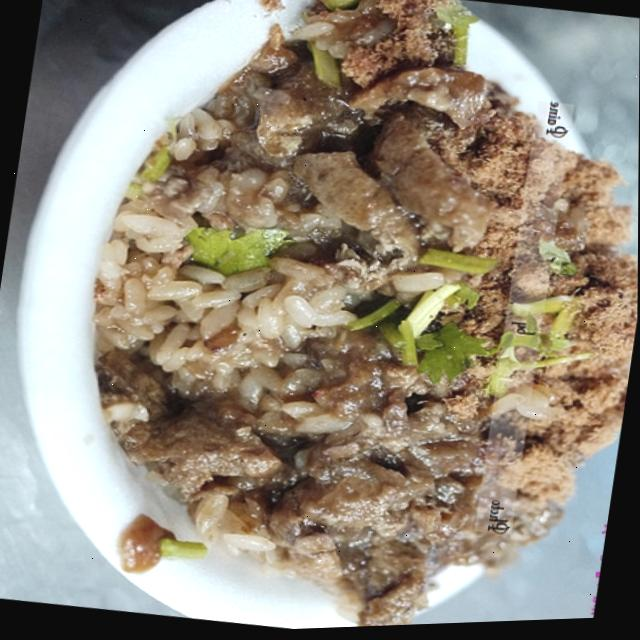米饭主食: (16, 0, 640, 639)
